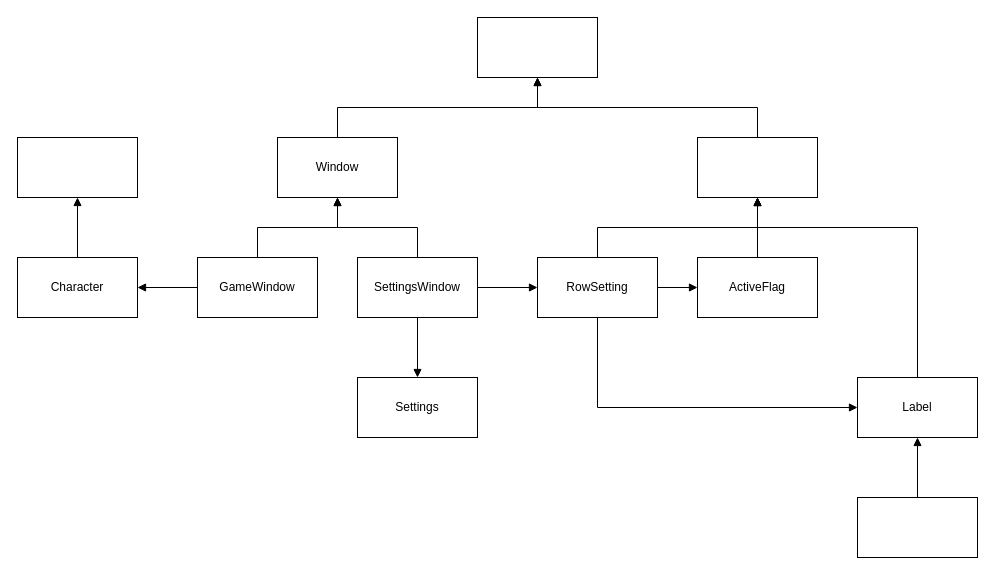
The diagram is 995 pixels wide and 575 high, and some of its shapes have lost their labels. The shapes that lost their labels are listed below. From the top down, each one's centre as x and y in pixels, then its label:
At point 537,47: "ABC".
At point 77,167: "UserControlSettings".
At point 757,167: "Control".
At point 917,527: "Key".
